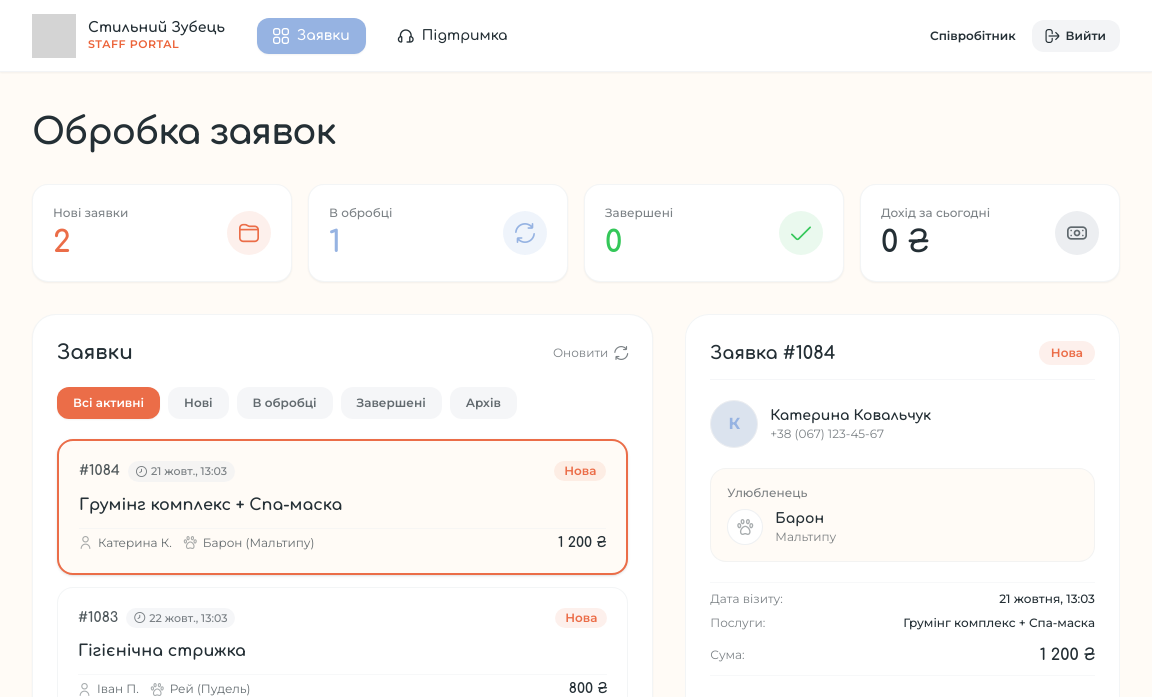
Test: RequestProcessingPage › excludes past expired appointment from active queue and displays it in archive
Expected: the text "#1000" is not shown
Click the tab "Архів". click: point(483, 403)
box: x1=450 y1=387 x2=517 y2=419
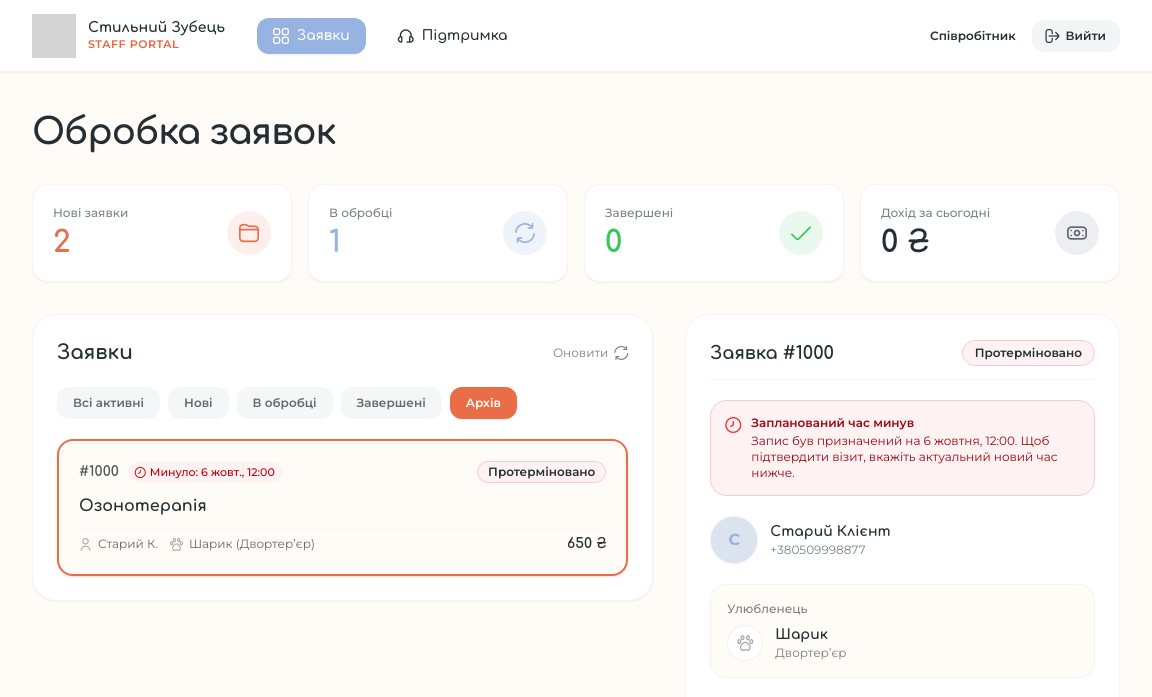
Now the text "#1000" is shown, box x1=79 y1=462 x2=119 y2=482
Now the 2nd text "Протерміновано" is shown, box x1=477 y1=461 x2=606 y2=483
